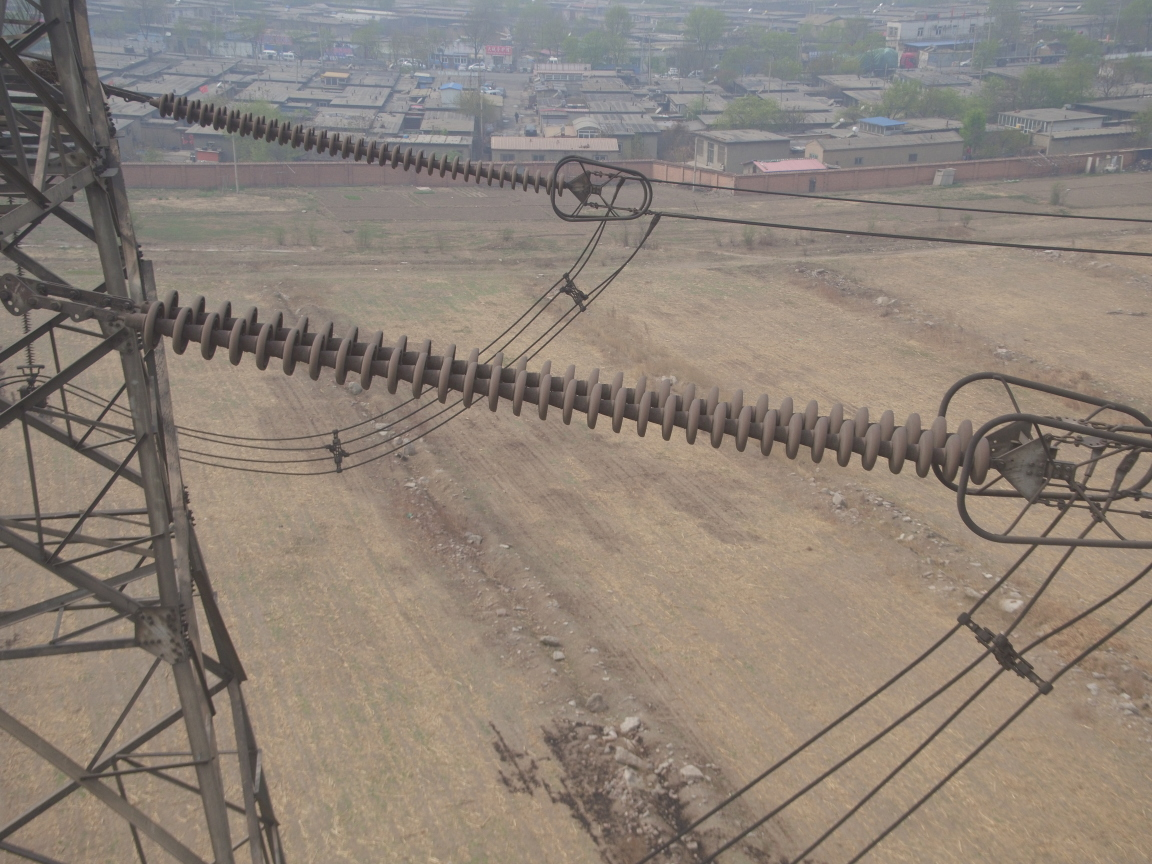insulator: (80, 284, 1023, 488), (129, 86, 581, 199)
